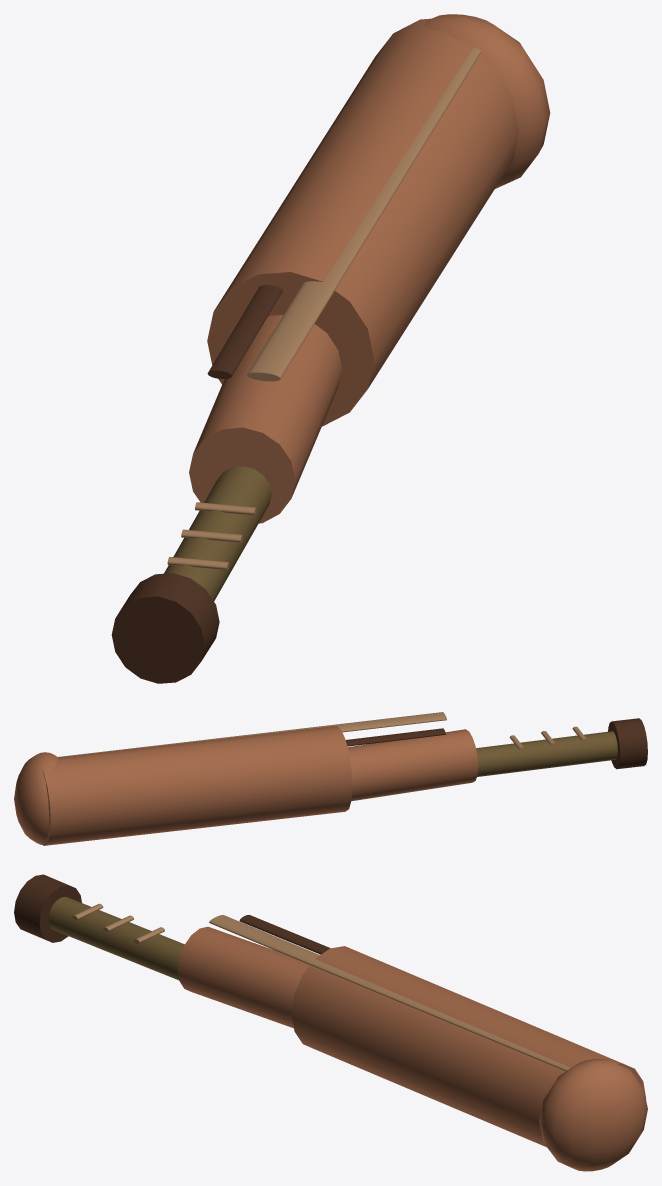
Rendered from CMU3DFieldRMCBaseballBatCloud.glb.
The picture shows the model from 3 angles, top to bottom: view 1: azimuth 30°, elevation 25°; view 2: azimuth 150°, elevation 25°; view 3: azimuth 270°, elevation 25°; orthographic projection. The views are drawn at different scales.
Visible parts, largest first — view 1: upper widening bat barrel, lower tapered bat body, rounded handle knob, long curved highlight, rounded barrel end, slim handle, dark lower barrel shade; view 2: upper widening bat barrel, lower tapered bat body, slim handle, rounded barrel end, rounded handle knob, long curved highlight, dark lower barrel shade; view 3: upper widening bat barrel, rounded barrel end, lower tapered bat body, slim handle, long curved highlight, rounded handle knob, dark lower barrel shade.
Part boxes in pixels (x1,y1,x2,y2): upper widening bat barrel: (207, 18, 518, 426); lower tapered bat body: (189, 314, 342, 523); rounded handle knob: (111, 573, 219, 683); long curved highlight: (247, 47, 481, 381); rounded barrel end: (424, 14, 550, 188); slim handle: (164, 466, 271, 601); dark lower barrel shade: (207, 285, 282, 378); upper widening bat barrel: (42, 726, 352, 845); lower tapered bat body: (347, 729, 478, 801); slim handle: (476, 731, 617, 776); rounded barrel end: (14, 752, 58, 844); rounded handle knob: (608, 718, 647, 769); long curved highlight: (57, 712, 446, 757); dark lower barrel shade: (345, 728, 445, 746); upper widening bat barrel: (291, 946, 646, 1147); rounded barrel end: (539, 1058, 647, 1171); lower tapered bat body: (178, 926, 309, 1028); slim handle: (48, 896, 184, 980); long curved highlight: (209, 915, 570, 1071); rounded handle knob: (14, 874, 81, 942); dark lower barrel shade: (239, 915, 330, 954).
Size of the model in its own units: 0.6732 by 0.1294 by 0.6993.
